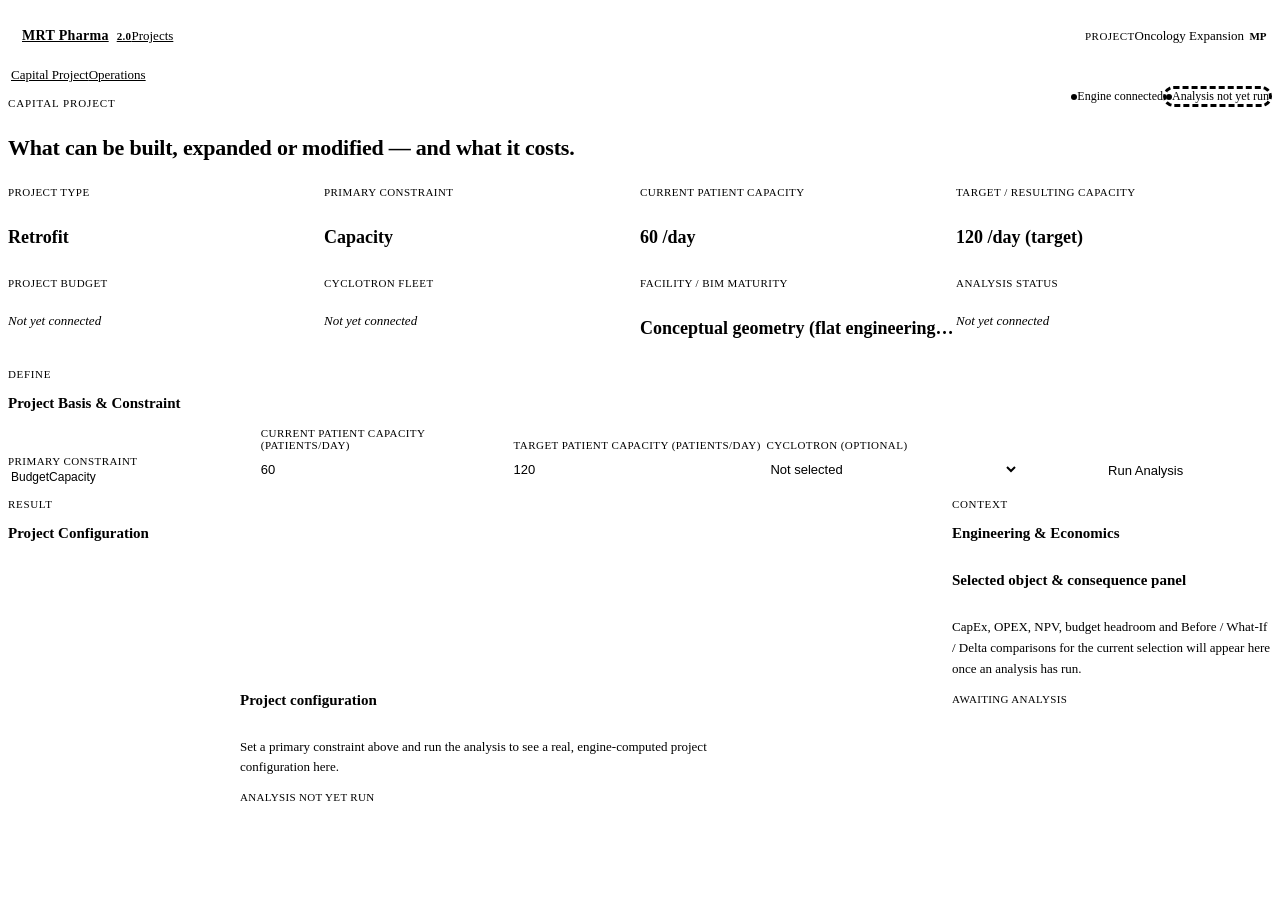
Capital Project real engine connection › switching the candidate configuration shows the OTHER real configuration, not a re-fabricated one
The width and height of the screenshot is (1280, 900).
Click the button "Run Analysis" at point(1146, 470), box [1019,454,1272,488]
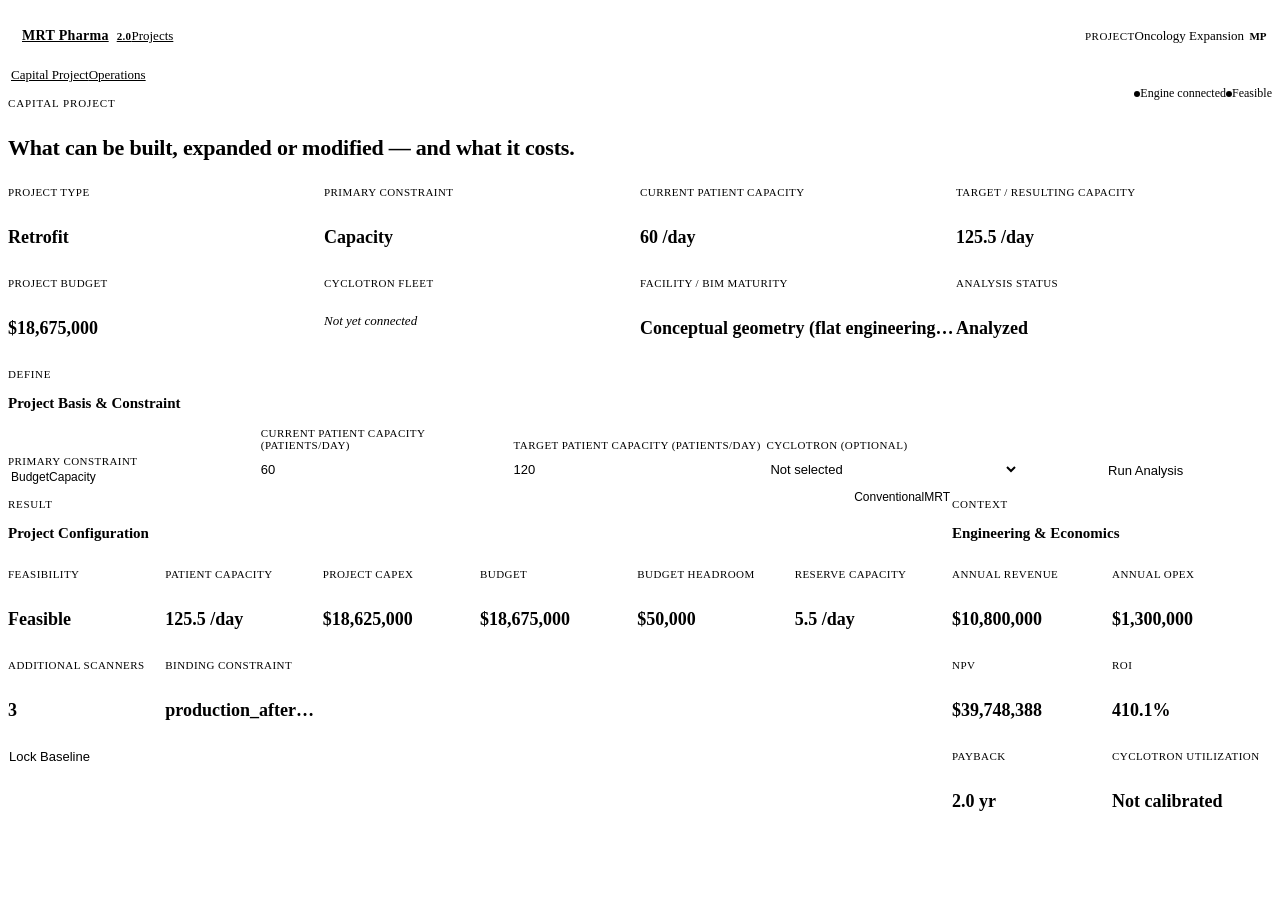
Expected: the text "$18,625,000" is shown, [323,610,413,630]
Click the radio button labelled "MRT" at point(937, 498), box [924,490,950,504]
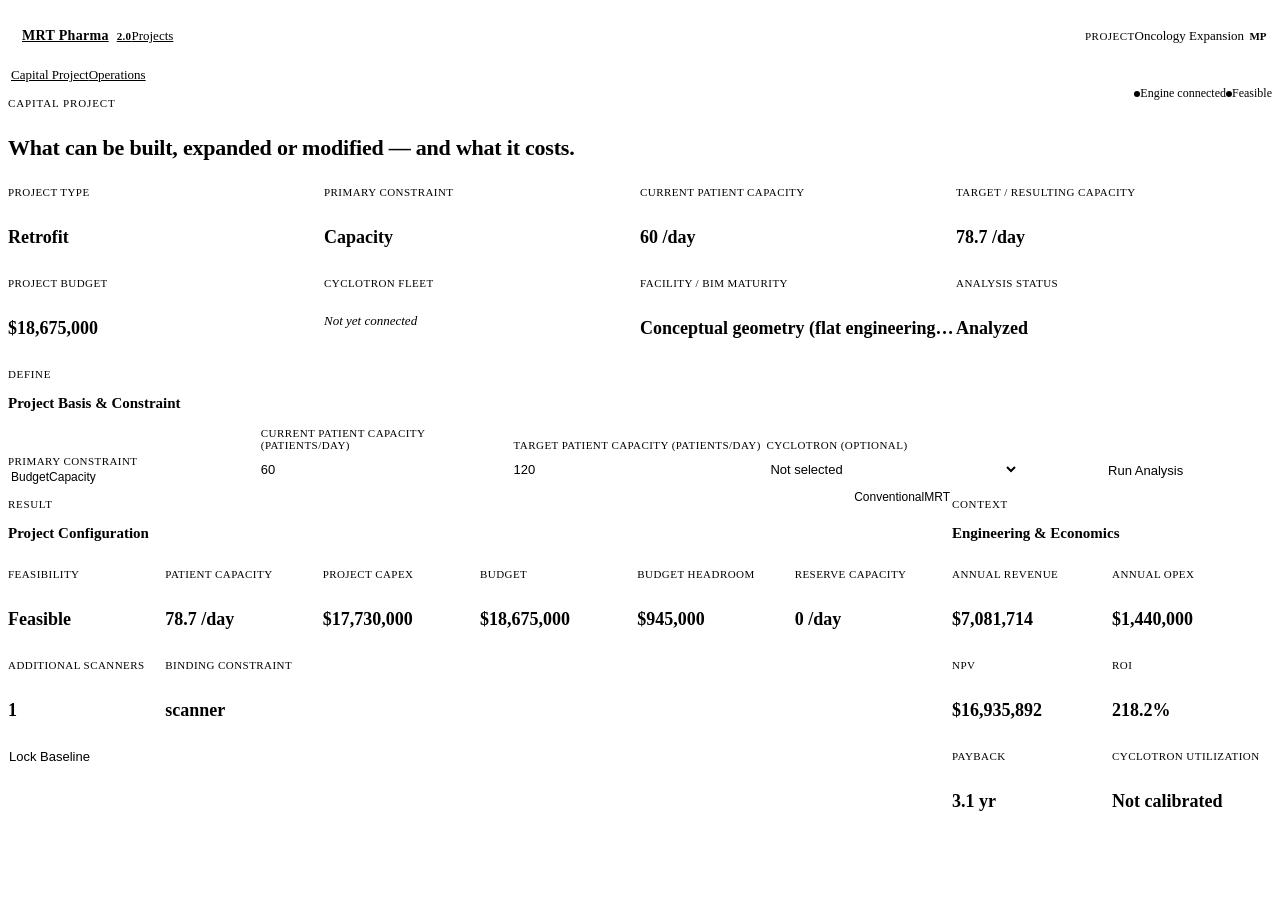
Expected: the text "$17,730,000" is shown, [323,610,413,630]
Expected: the text "78.7 /day" below "Target / Resulting Capacity" is shown, [956,228,1025,248]
